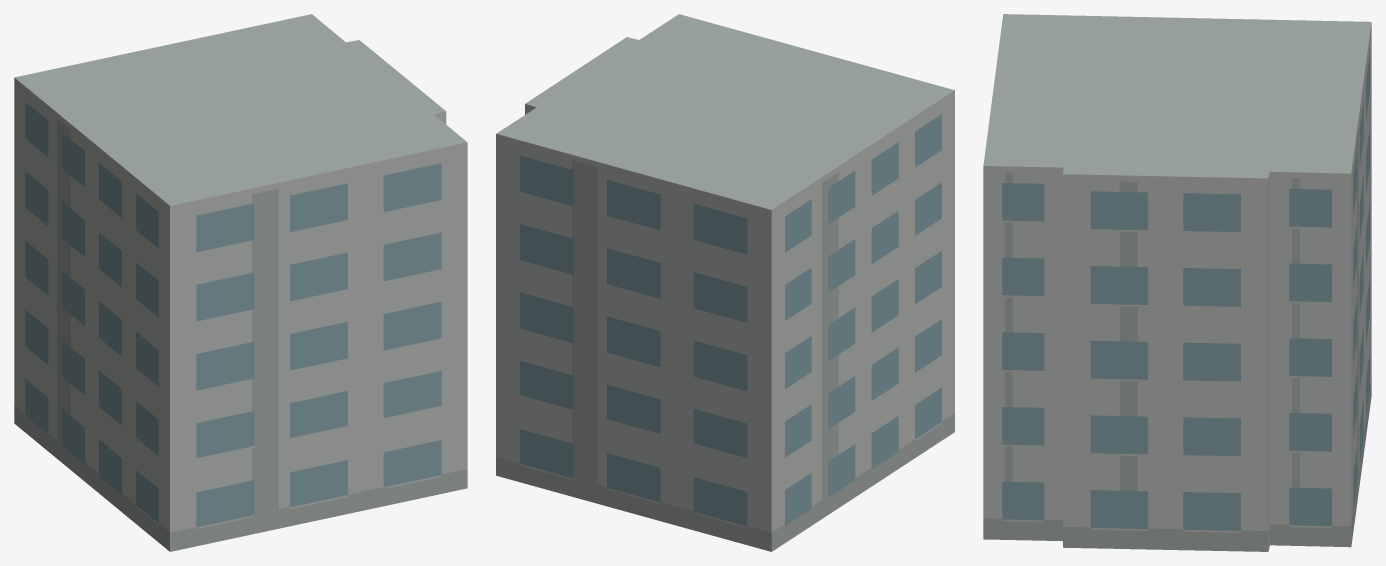
The model's file is survey-upis-32889112.glb.
The picture shows the model from 3 angles, left to right: view 1: azimuth 30°, elevation 25°; view 2: azimuth 150°, elevation 25°; view 3: azimuth 270°, elevation 25°; orthographic projection. The views are drawn at different scales.
Visible parts, largest first — view 1: survey-upis-32889112.tmp; view 2: survey-upis-32889112.tmp; view 3: survey-upis-32889112.tmp.
Part boxes in pixels (x1,y1,x2,y2): survey-upis-32889112.tmp: (14, 14, 467, 551); survey-upis-32889112.tmp: (496, 14, 954, 551); survey-upis-32889112.tmp: (983, 14, 1371, 551).
Size of the model in its own units: 13.7 by 14.5 by 13.67.
